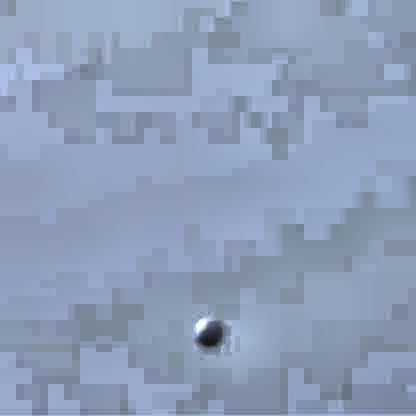golfball: (193, 311, 221, 342)
